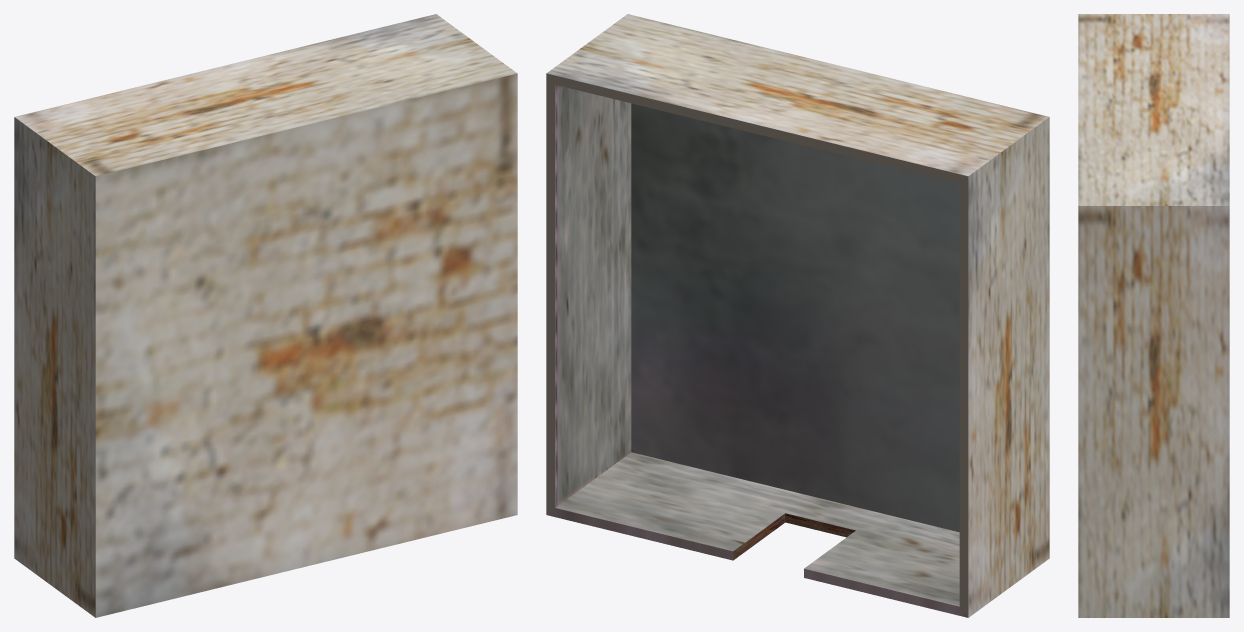
The model's file is 6x6S_wtf.obj.
3 renders of one model, left to right at view 1: azimuth 30°, elevation 25°; view 2: azimuth 150°, elevation 25°; view 3: azimuth 270°, elevation 25°, orthographic. The views are drawn at different scales.
Visible parts, largest first — view 1: group2; view 2: group2; view 3: group2.
Part boxes in pixels (bbox=[...]): group2: bbox=[14, 14, 517, 617]; group2: bbox=[546, 14, 1049, 617]; group2: bbox=[1078, 14, 1229, 617].
Bounding box in the file's own units: 660 × 660 × 220.
